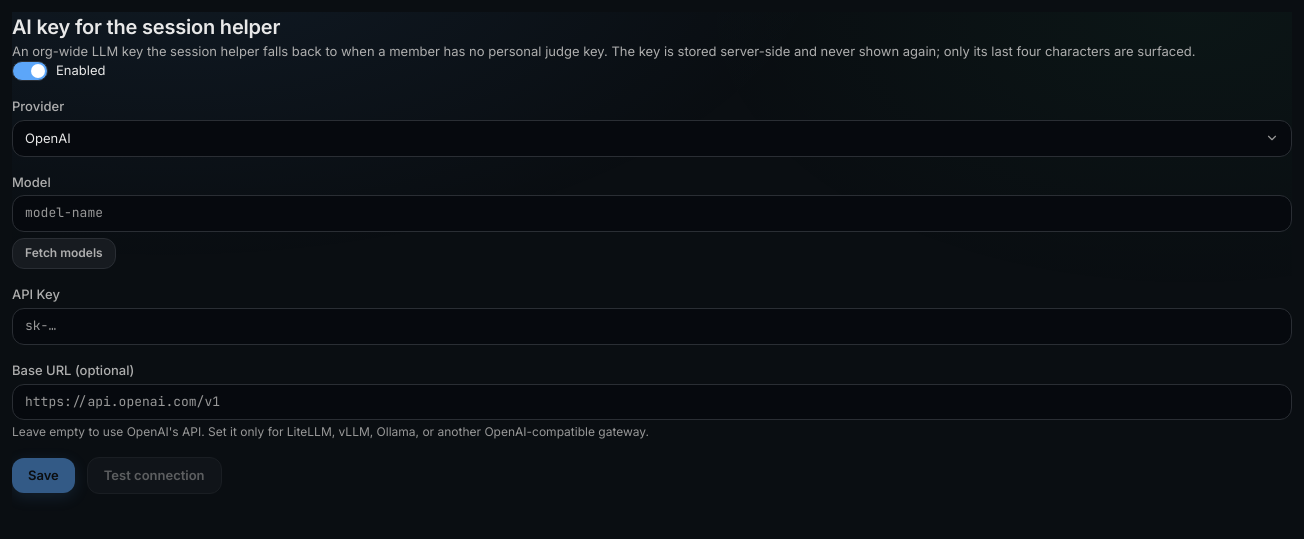
Test: OrgHelperKeyCard › model picker › shows a rate-limit message when model lookups are throttled
Click the button "Fetch models" at x=64, y=254, box [12,238,116,269]
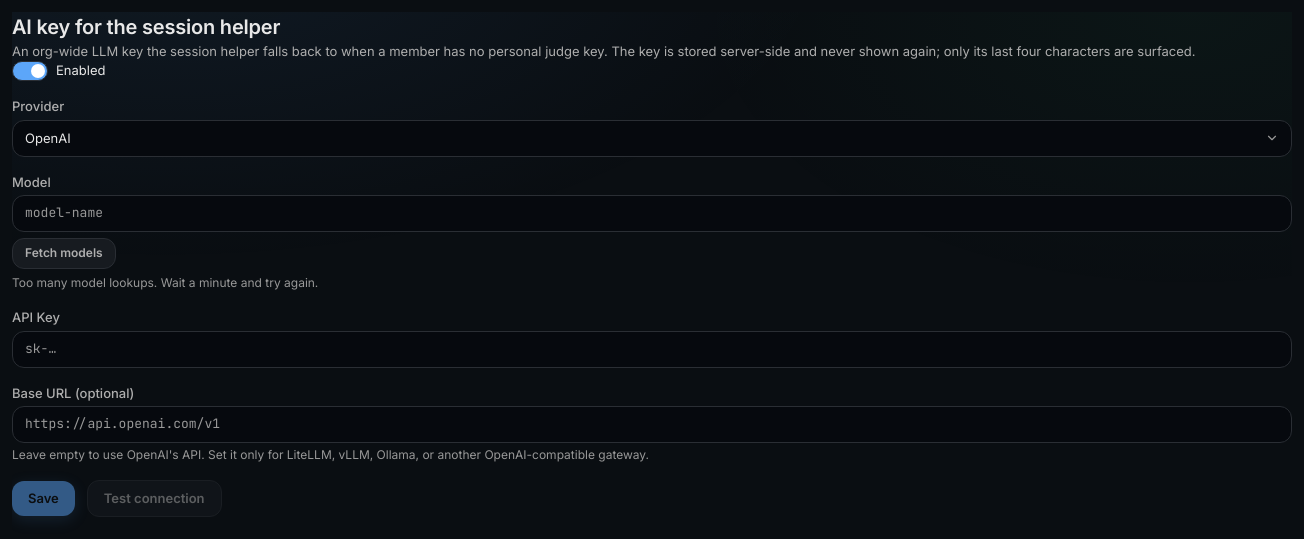
Expected: the text "Too many model lookups. Wait a minute and try again." is shown, [12,275,318,290]
